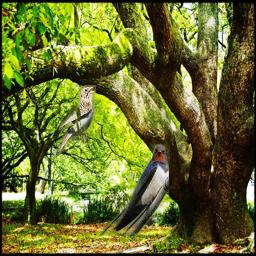Sparrow: (56, 85, 96, 155)
Swallow: (100, 144, 169, 236)
